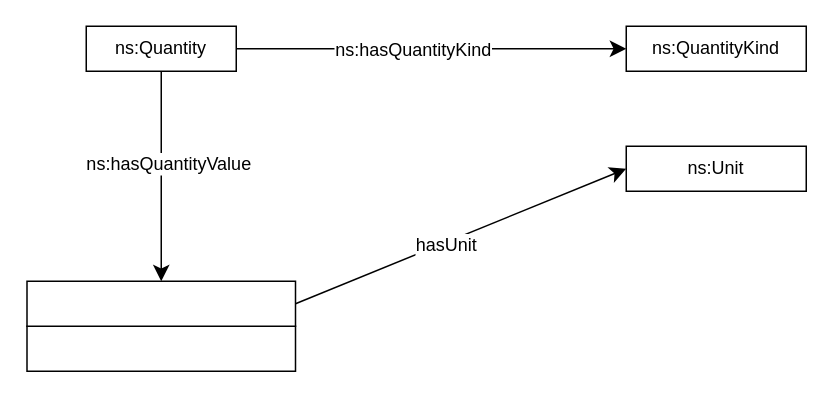
The diagram is 833 pixels wide and 398 high, and some of its shapes have lost their labels. The shapes that lost their labels are listed below. From the top down, each one's box as (x1, y1, x2, y2) in pixels, then its label:
(26, 280, 296, 326): ns:Class1
(26, 325, 296, 371): ns:hasNumericValue: xsd:double
